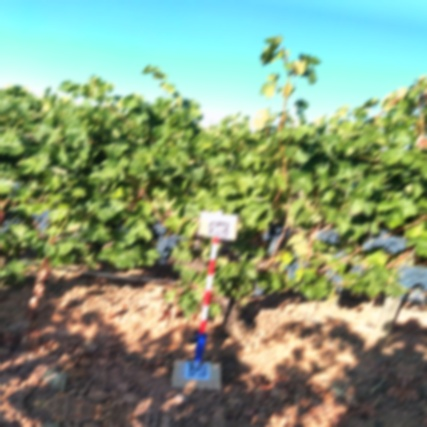QR: (208, 220, 229, 238), (187, 361, 208, 378)
